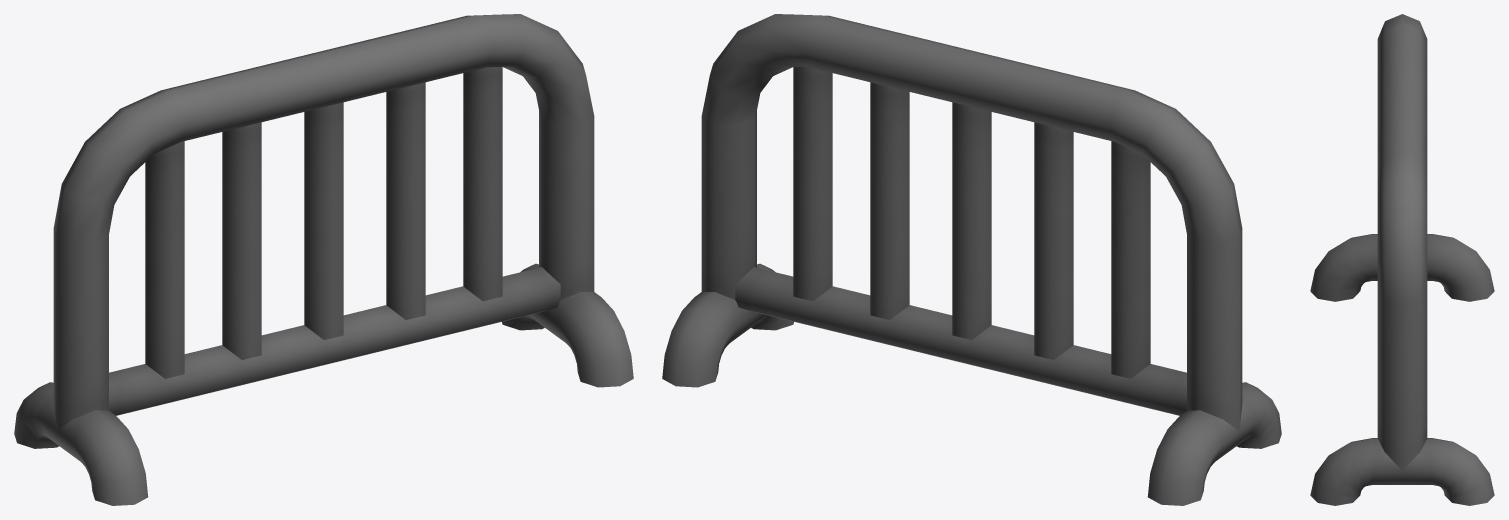
Rendered from Pfb_Fence.fbx.
The picture shows the model from 3 angles, left to right: view 1: azimuth 30°, elevation 25°; view 2: azimuth 150°, elevation 25°; view 3: azimuth 270°, elevation 25°; orthographic projection. The views are drawn at different scales.
Parts seen in each view (by area): view 1: MAT_Fence02 2; view 2: MAT_Fence02 2; view 3: MAT_Fence02 2.
Part boxes in pixels (x1,y1,x2,y2): MAT_Fence02 2: (14, 14, 633, 505); MAT_Fence02 2: (662, 14, 1281, 505); MAT_Fence02 2: (1310, 14, 1494, 505).
Size of the model in its own units: 1.19 by 0.7492 by 0.4111.
Materials: 1 (1 with a texture image).
